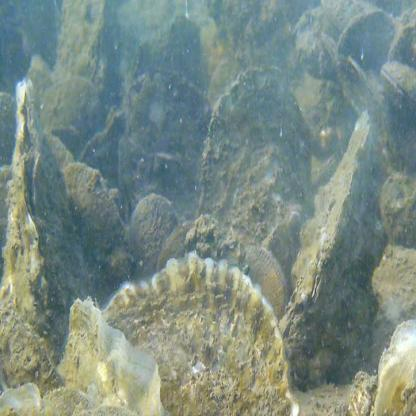Oyster- Indeterminate: (0, 80, 91, 398), (117, 69, 213, 224), (228, 245, 290, 322), (382, 61, 416, 116)
Oyster-Closed: (102, 255, 302, 416), (196, 69, 314, 303), (294, 112, 372, 309), (63, 163, 134, 309), (334, 57, 396, 173), (128, 195, 179, 280), (40, 79, 106, 143), (72, 4, 115, 98), (78, 108, 127, 190), (377, 319, 416, 416), (336, 10, 397, 70), (374, 245, 416, 323), (381, 171, 416, 249), (322, 0, 376, 32), (347, 370, 377, 416), (0, 163, 10, 280), (0, 93, 16, 164), (50, 131, 74, 174)
Oyster-Open: (0, 302, 167, 416)
